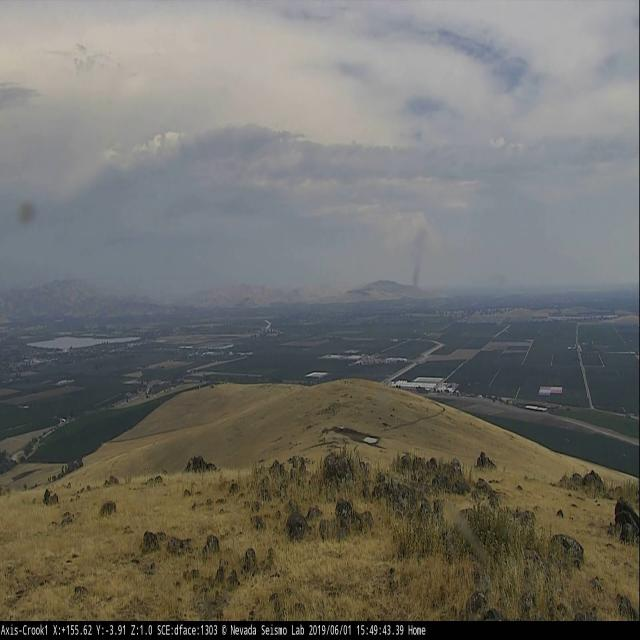smoke: (409, 222, 428, 289)
